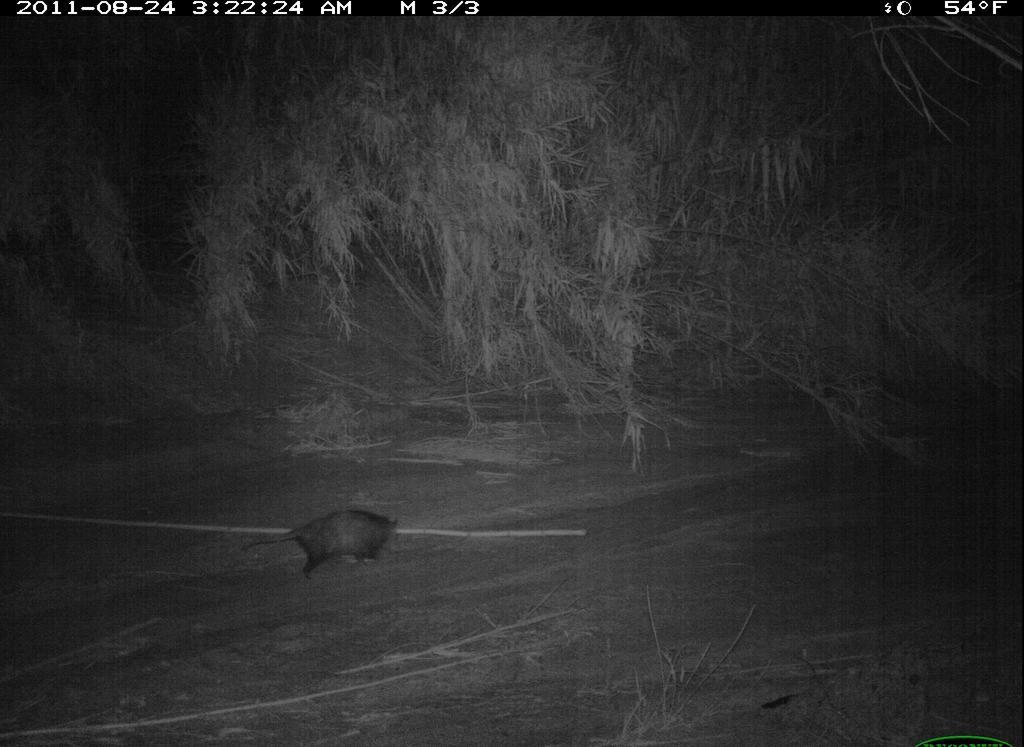opossum: (232, 507, 408, 593)
